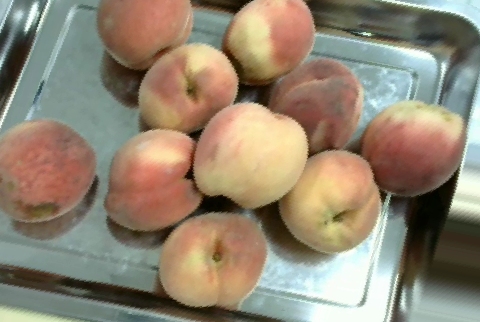Peach: (192, 101, 307, 210), (278, 149, 383, 252), (104, 128, 203, 233), (259, 54, 367, 150), (360, 100, 464, 197), (0, 118, 96, 223), (159, 213, 266, 307), (132, 43, 241, 135), (222, 0, 315, 83), (98, 0, 193, 69)
